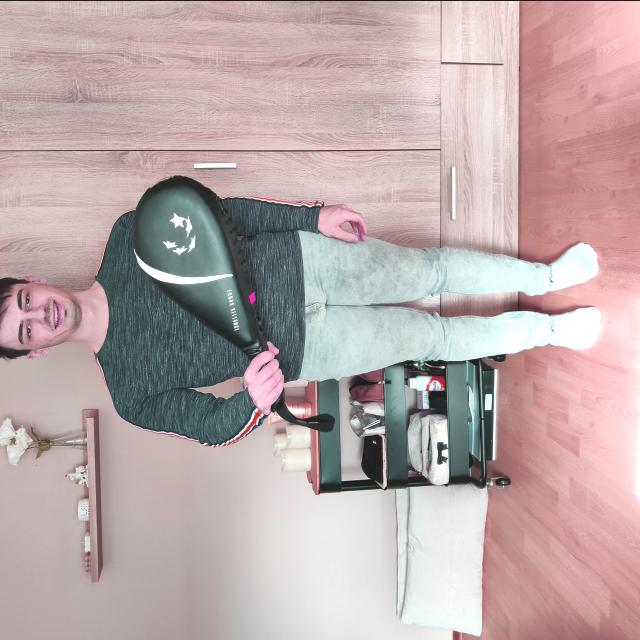paddle: (129, 172, 267, 360)
